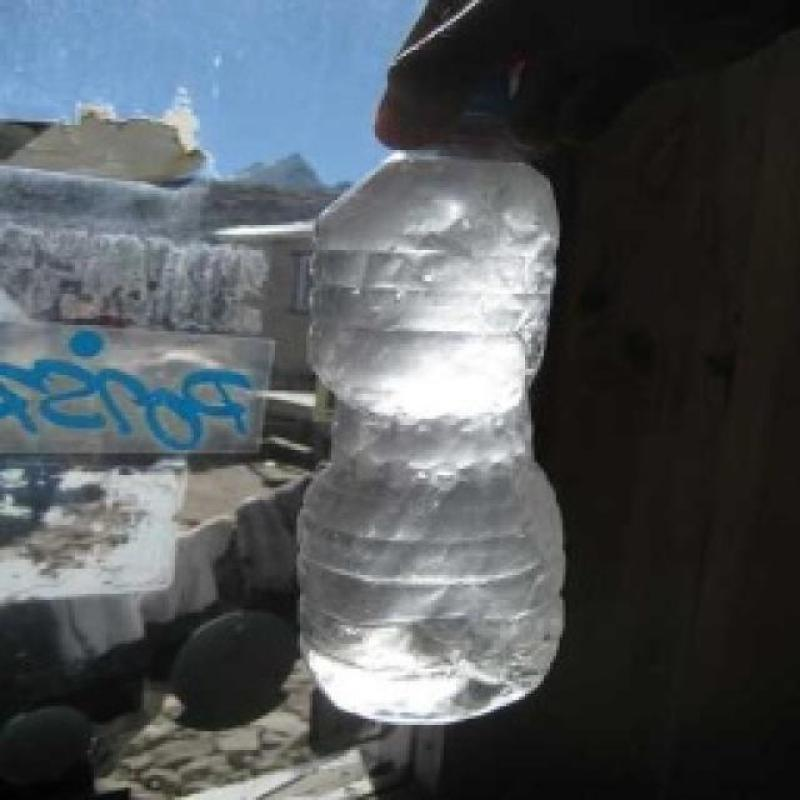botella: (297, 67, 572, 727)
